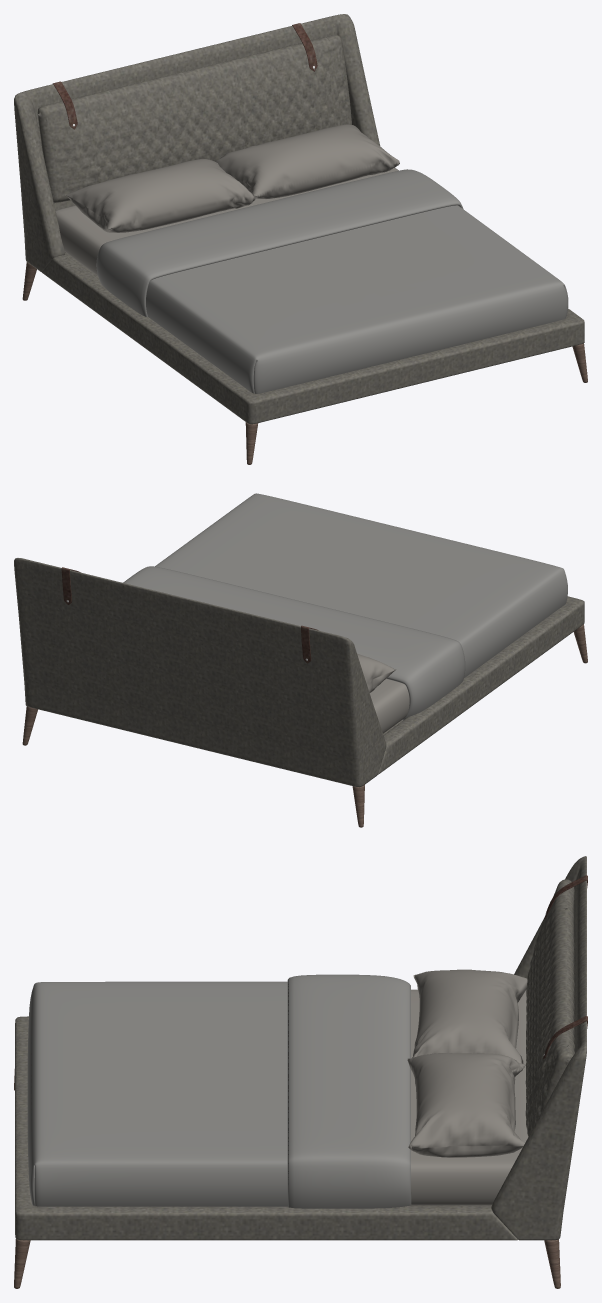
Rendered from obj_chelsea_bed_3d_model_6df175.glb.
3 renders of one model, top to bottom at view 1: azimuth 30°, elevation 25°; view 2: azimuth 150°, elevation 25°; view 3: azimuth 270°, elevation 25°, orthographic. The views are drawn at different scales.
Parts seen in each view (by area): view 1: obj_chelsea_bed_3d_model_6df175; view 2: obj_chelsea_bed_3d_model_6df175; view 3: obj_chelsea_bed_3d_model_6df175.
Boxes of the visible parts, x1,y1,x2,y2 form: obj_chelsea_bed_3d_model_6df175: (14,14,587,464); obj_chelsea_bed_3d_model_6df175: (14,493,587,827); obj_chelsea_bed_3d_model_6df175: (14,856,587,1288).
Size of the model in its own units: 1.32 by 0.7344 by 1.6.
Materials: 8 (4 with a texture image).
